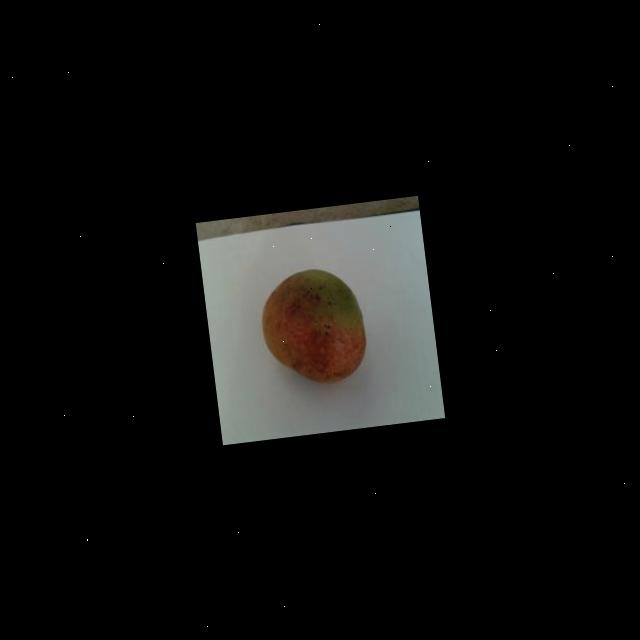Mango: (256, 262, 371, 391)
